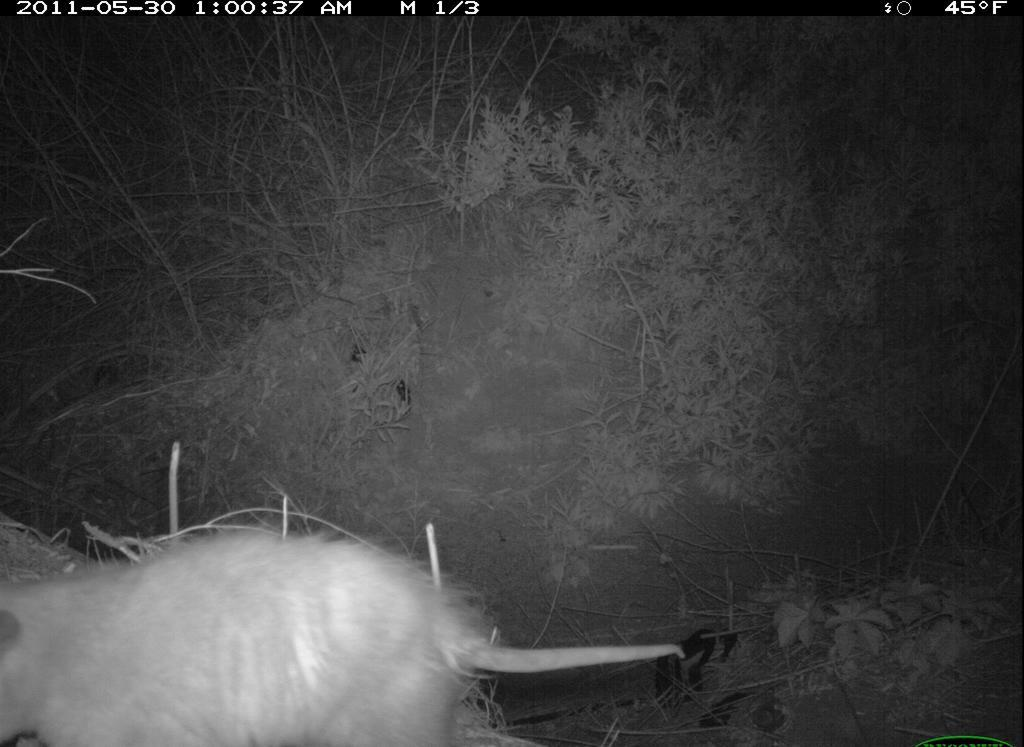opossum: (2, 511, 699, 747)
